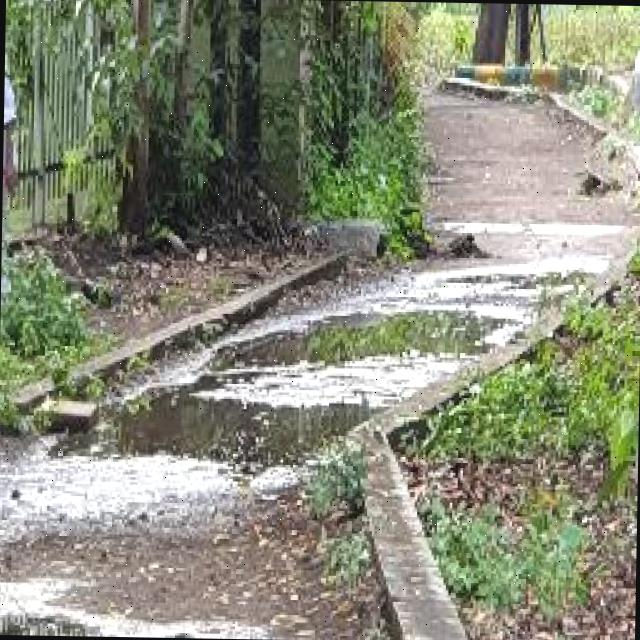waterlogging: (94, 270, 480, 463)
